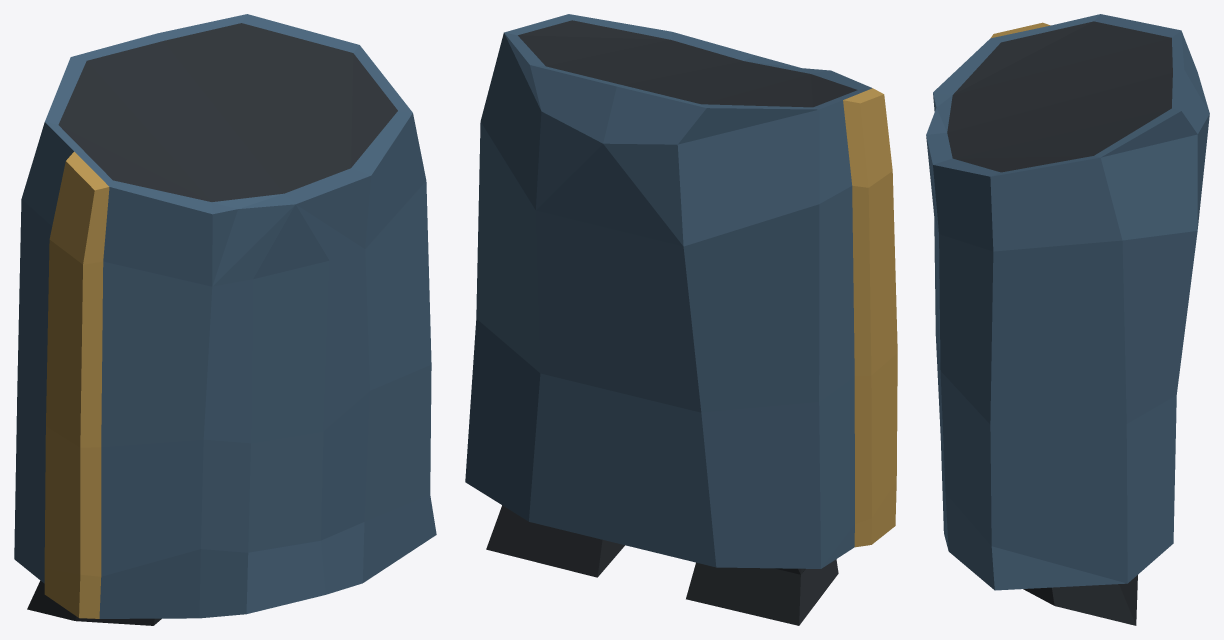
Rendered from Chr_Hips_Male_08_Static.fbx.
3 renders of one model, left to right at view 1: azimuth 30°, elevation 25°; view 2: azimuth 150°, elevation 25°; view 3: azimuth 270°, elevation 25°, orthographic. The views are drawn at different scales.
Visible parts, largest first — view 1: Chr_Hips_Male_08_Static; view 2: Chr_Hips_Male_08_Static; view 3: Chr_Hips_Male_08_Static.
Part boxes in pixels (x1,y1,x2,y2): Chr_Hips_Male_08_Static: (14, 14, 436, 625); Chr_Hips_Male_08_Static: (465, 14, 897, 625); Chr_Hips_Male_08_Static: (926, 14, 1209, 625).
Size of the model in its own units: 0.4085 by 0.5545 by 0.294.
